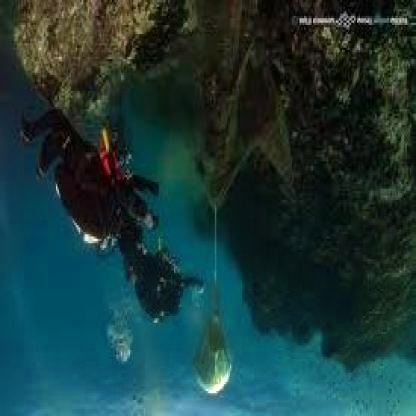net: (195, 0, 305, 212)
